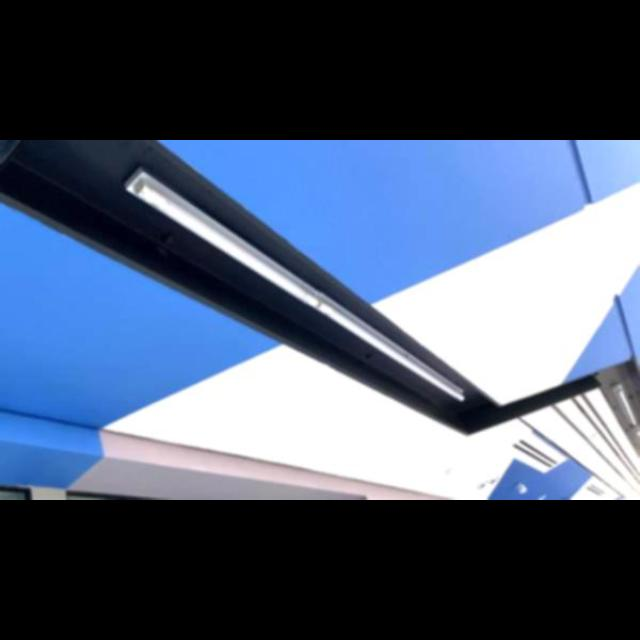Straight-Tube-Fluorescent-Lamp: (119, 168, 475, 416)
